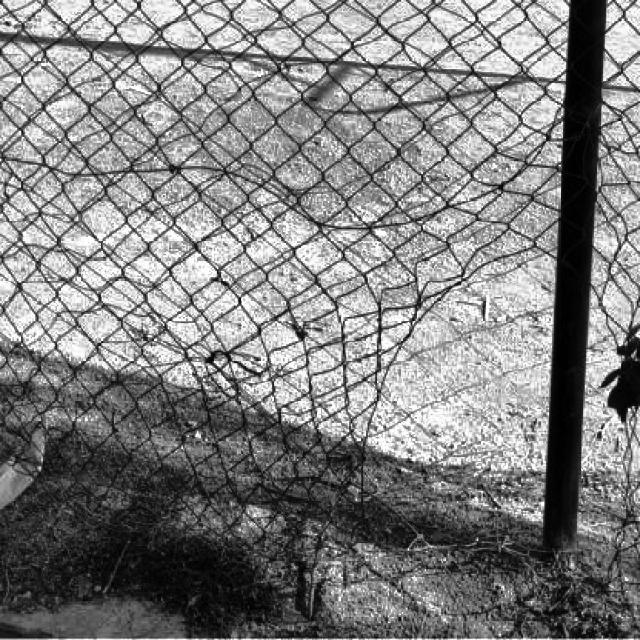anomaly-fence: (355, 123, 640, 582)
